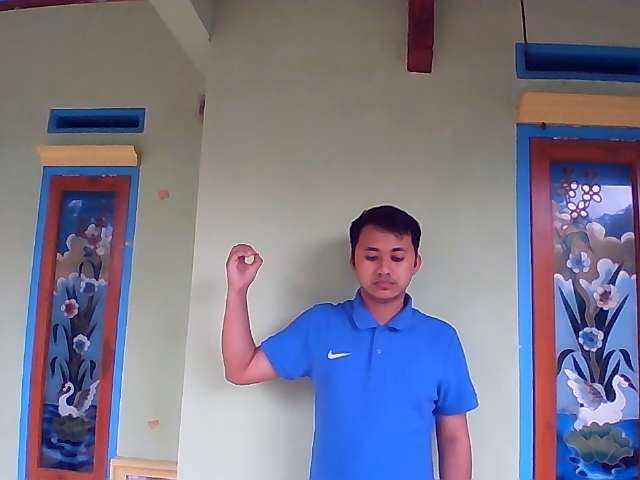O: (224, 243, 264, 291)
